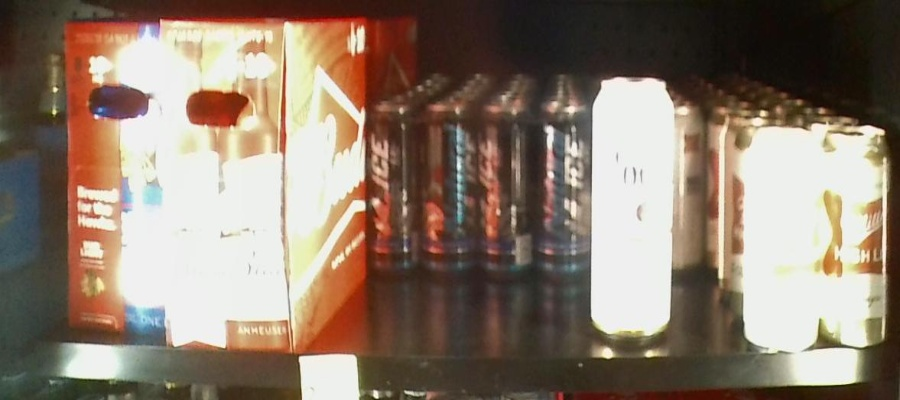bottle: (70, 15, 364, 333), (748, 139, 891, 350), (479, 101, 583, 283), (595, 79, 668, 336), (373, 101, 471, 275), (674, 107, 697, 281)
